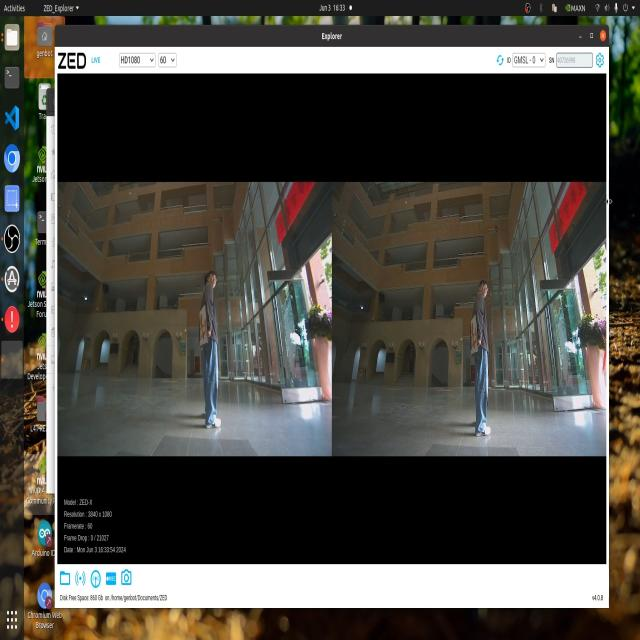red: (467, 319, 479, 355), (195, 312, 208, 342)
